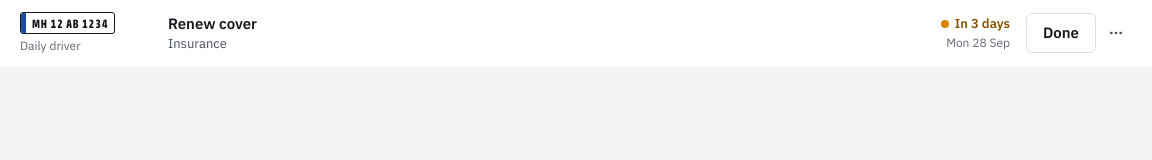
UpcomingRow › reminder rows › offers a Done button for a non-service reminder, with Snooze in the overflow
Click the button with aria-label "Mark Renew cover done".
click(1061, 33)  # box [1026, 13, 1096, 53]
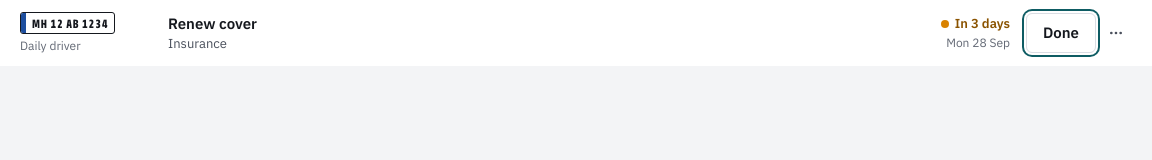
Click the button named "More actions for Renew cover".
click(1116, 33)  # box [1100, 17, 1132, 49]
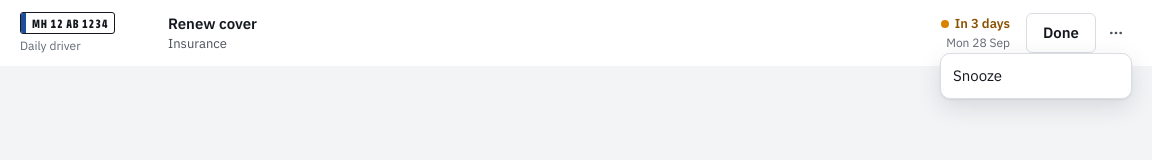
Expected: the menu item "Snooze" is shown, [953, 66, 1002, 85]
